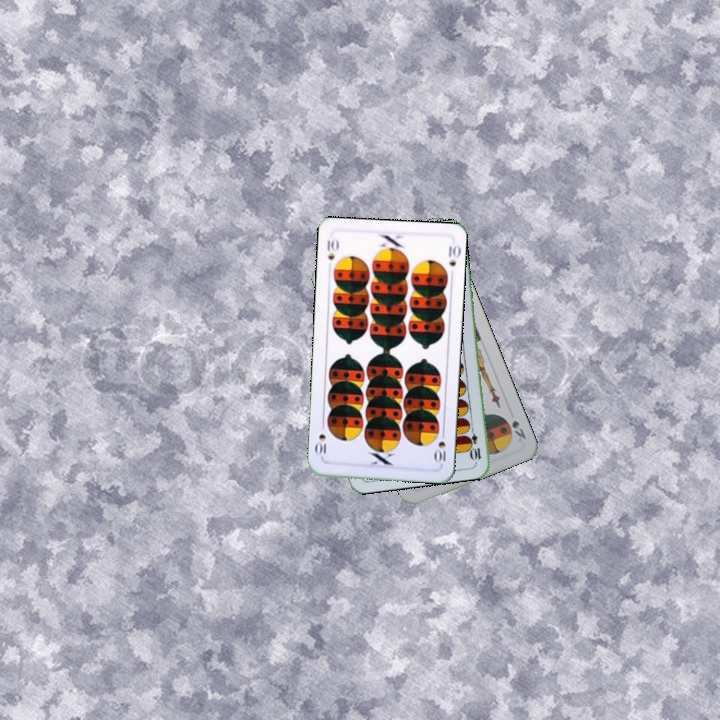E10: (465, 422, 483, 463)
S10: (431, 426, 448, 467), (323, 235, 341, 262)
SK: (508, 416, 529, 444)
